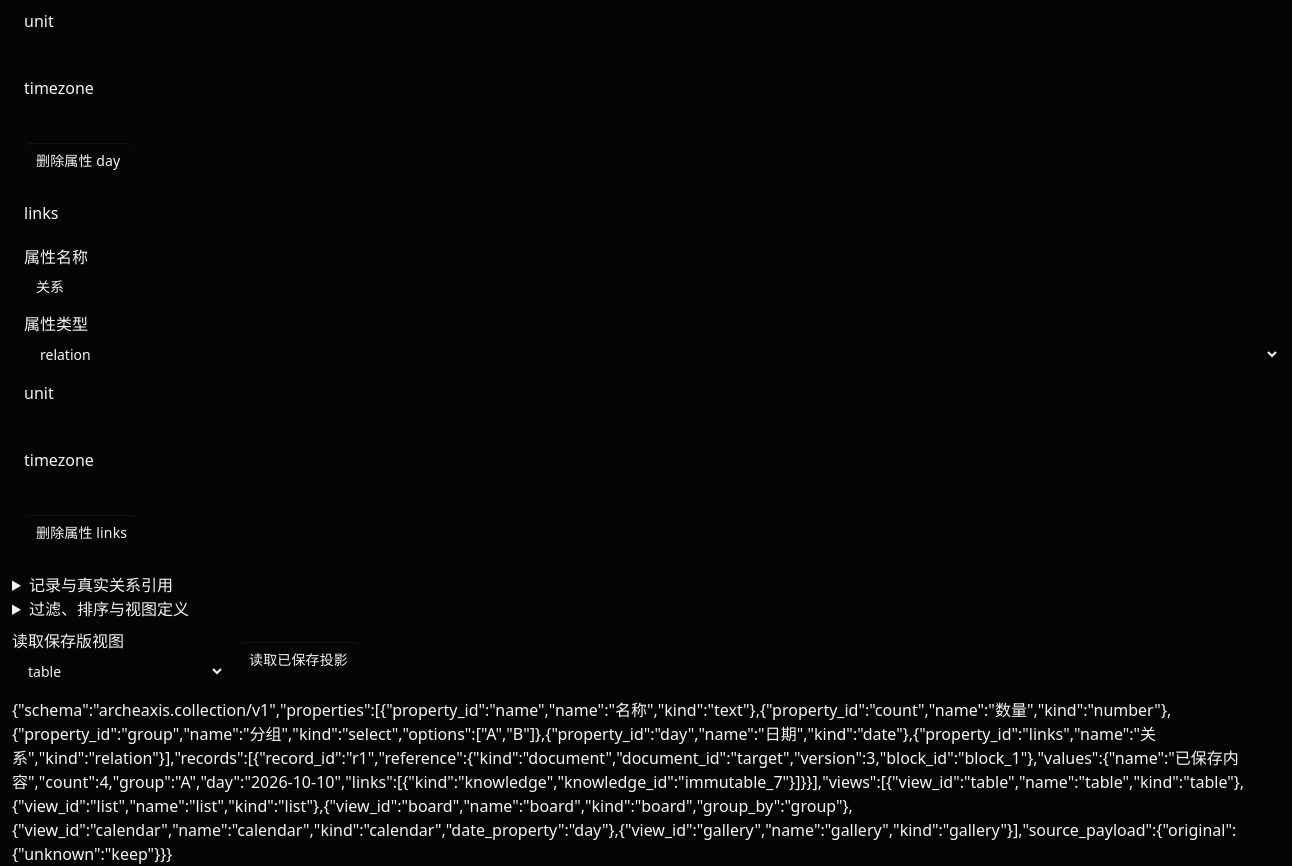
Test: identity mismatch fails closed and double click has synchronous guard
The width and height of the screenshot is (1292, 866).
(page scrolled)
Click the button "读取已保存投影".
click(298, 659)  # box [237, 642, 360, 676]
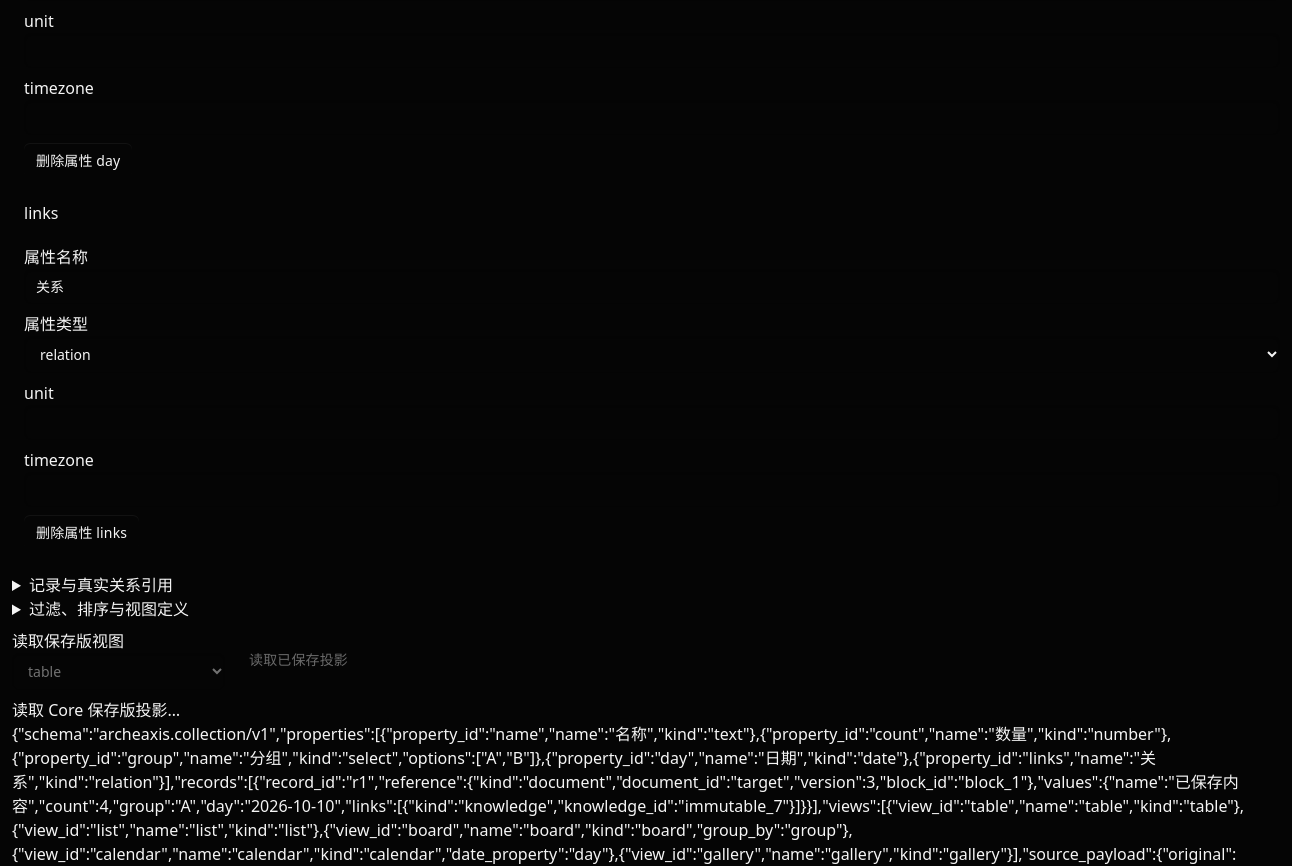
Click the button "读取已保存投影".
click(298, 659)  # box [237, 642, 360, 676]
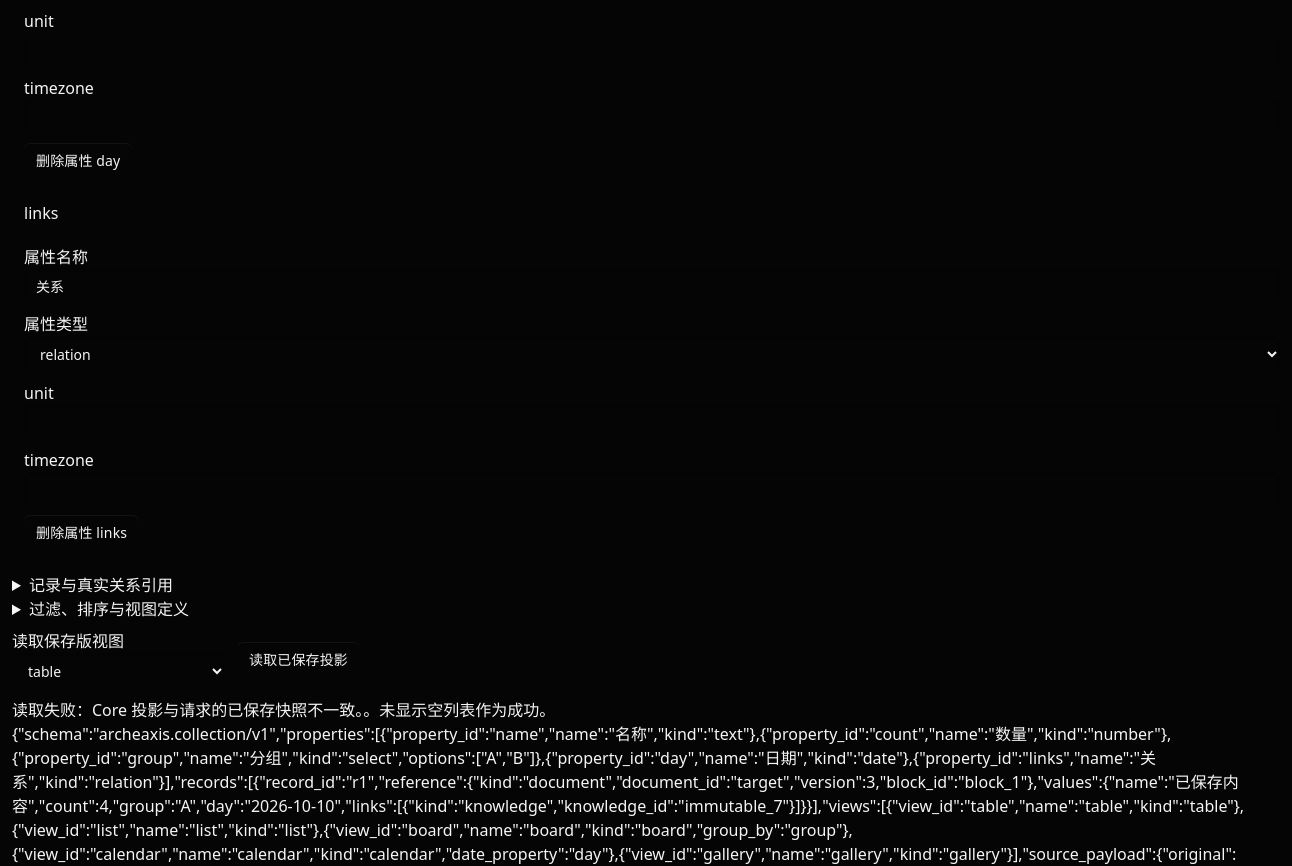
Expected: the message shows "快照不一致", [12, 698, 555, 720]
